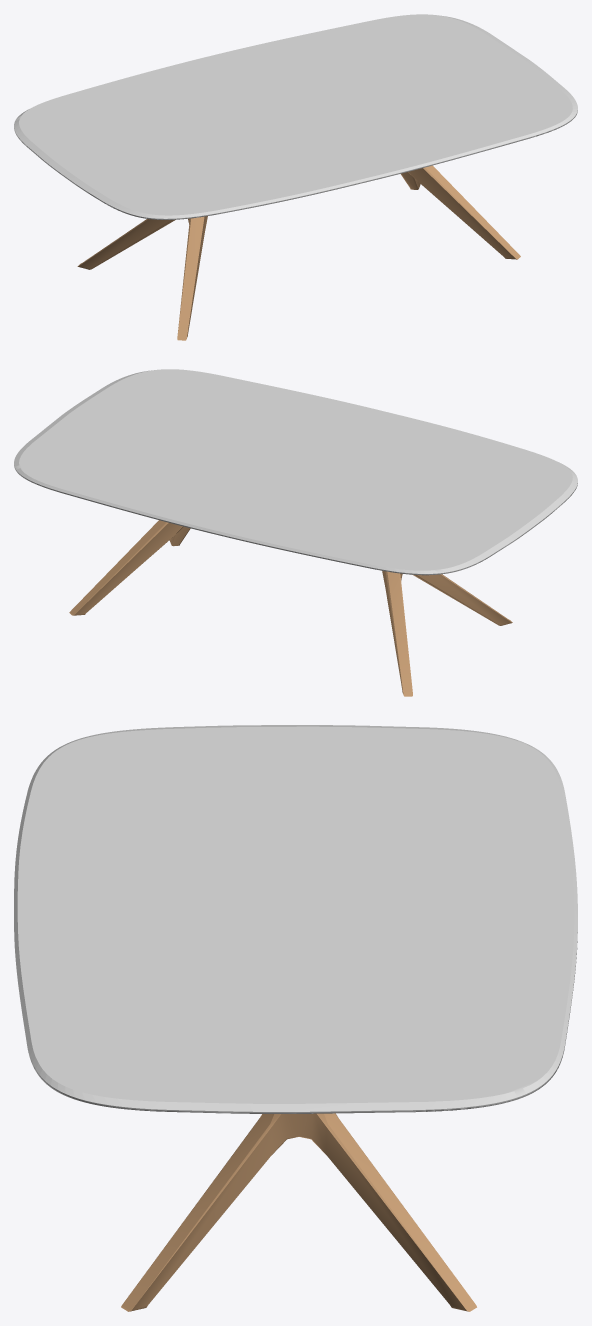
File: x-frame-glass-top-table.glb
The picture shows the model from 3 angles, top to bottom: view 1: azimuth 30°, elevation 25°; view 2: azimuth 150°, elevation 25°; view 3: azimuth 270°, elevation 25°; orthographic projection. The views are drawn at different scales.
Visible parts, largest first — view 1: Rectangle005, Box002, Box003; view 2: Rectangle005, Box002, Box003; view 3: Rectangle005, Box003.
Part boxes in pixels (left/top/right/bottom): Rectangle005: left=14, top=14, right=577, bottom=219; Box002: left=77, top=216, right=207, bottom=340; Box003: left=401, top=165, right=520, bottom=259; Rectangle005: left=14, top=369, right=577, bottom=575; Box002: left=382, top=571, right=512, bottom=696; Box003: left=69, top=520, right=190, bottom=615; Rectangle005: left=14, top=725, right=577, bottom=1113; Box003: left=121, top=1113, right=476, bottom=1311.
Bounding box in the file's own units: 1.42 × 0.4328 × 0.8745.
